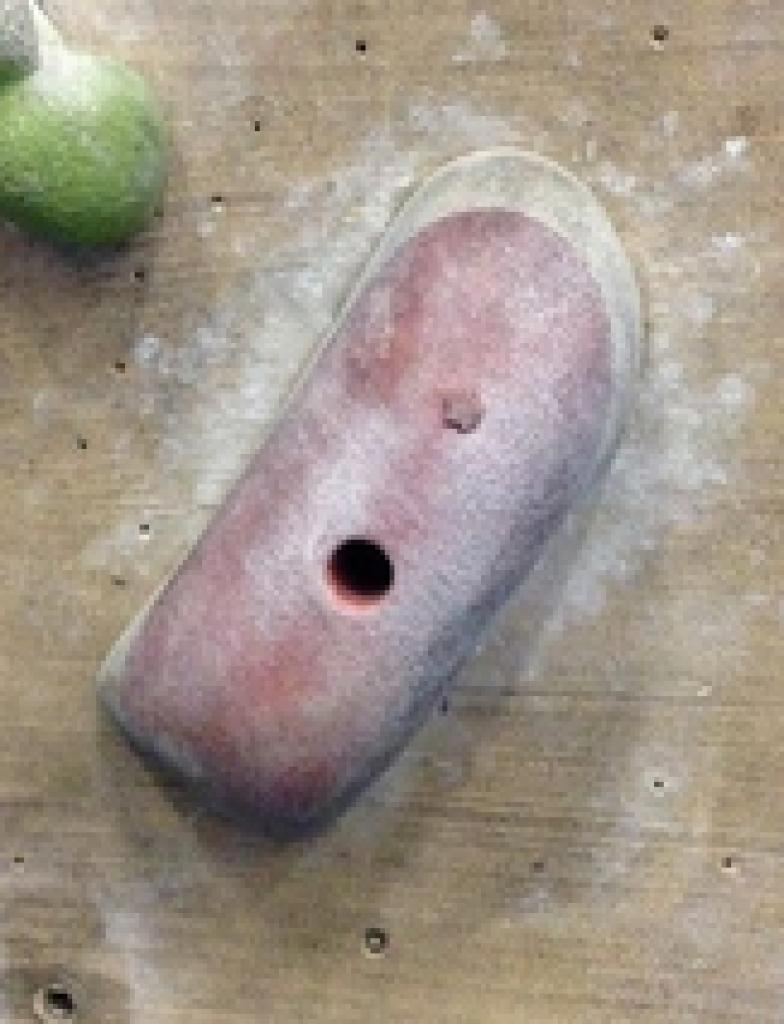pinch: (101, 151, 640, 832)
